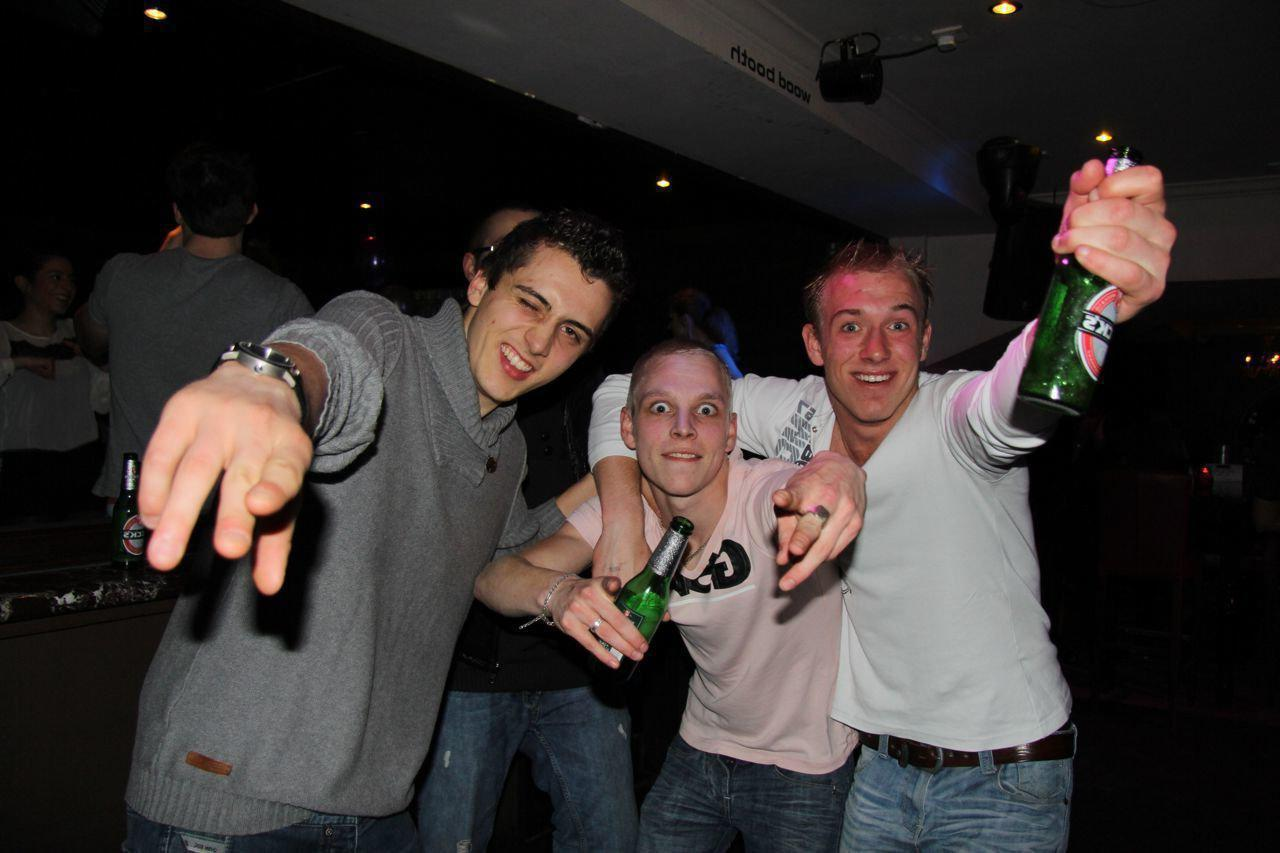Drunk: (817, 264, 921, 419), (481, 256, 598, 393), (631, 360, 731, 498)
